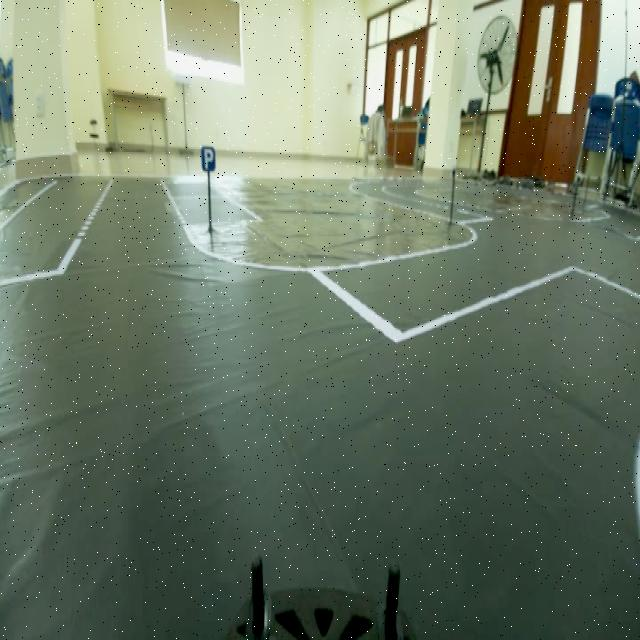parking: (198, 138, 222, 169)
